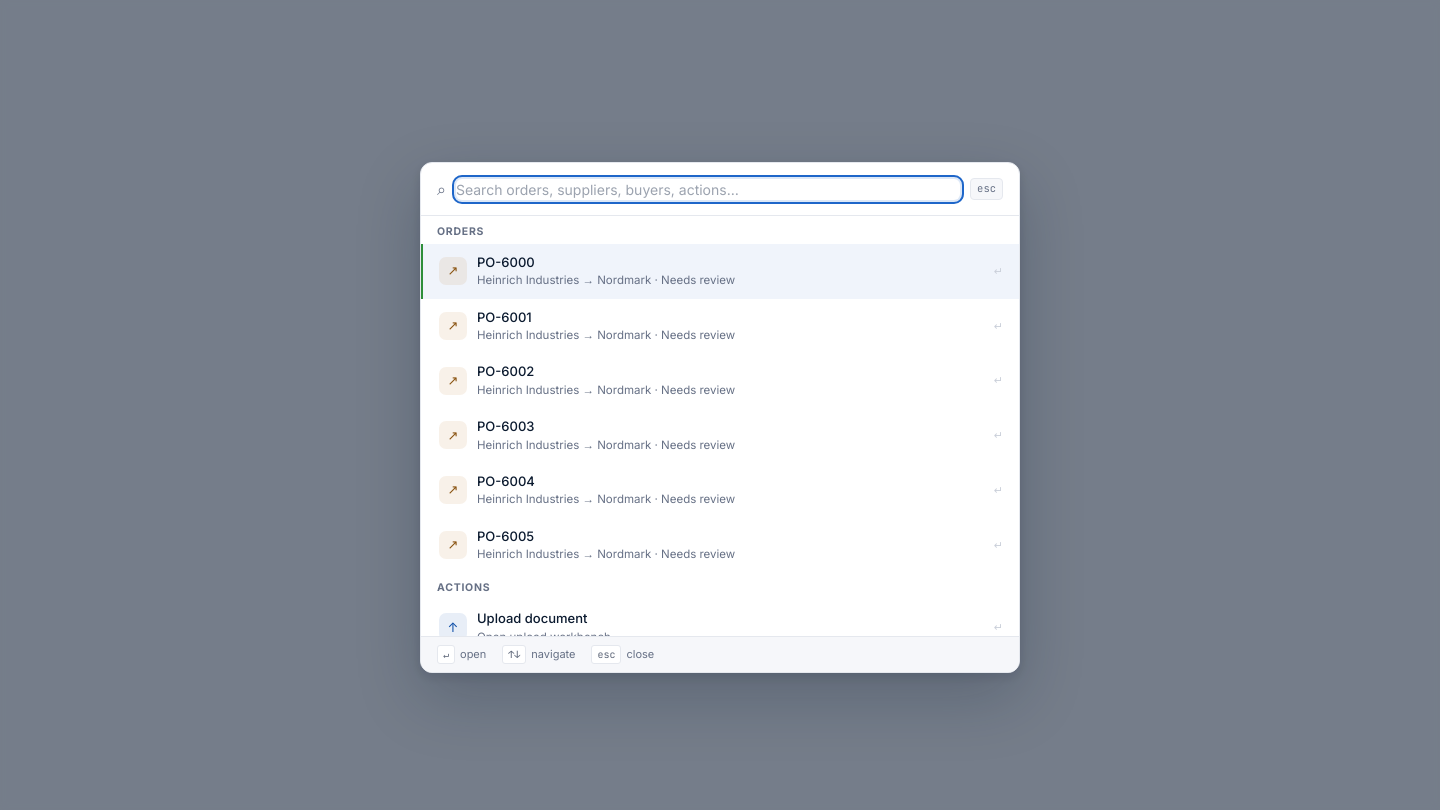
command palette search — still says no when the answer is no › reports no results once the whole account has actually been searched
In the dropdown: (708, 189) [456,178,960,200], type "qqqq"
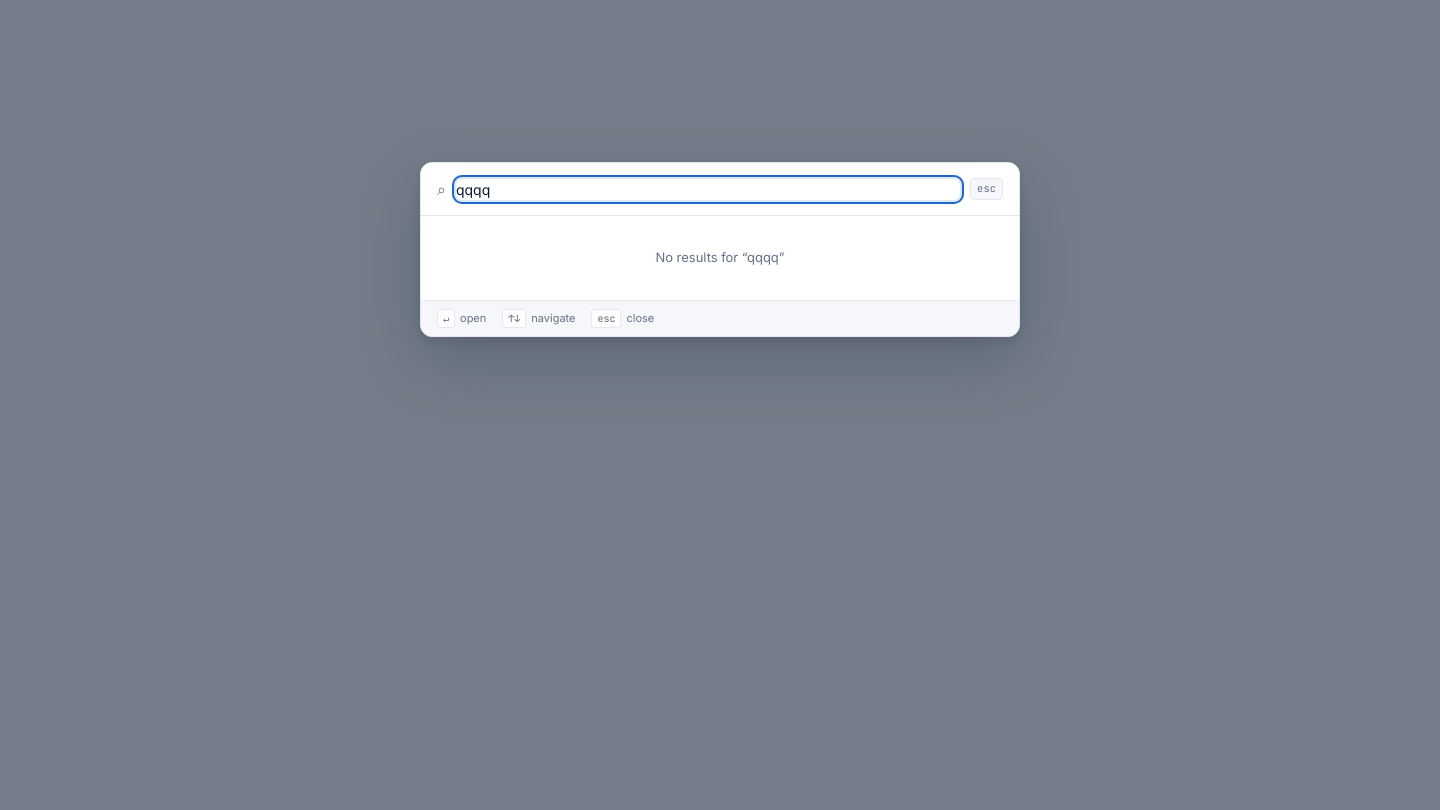
Now the text "No results for" is shown, box [655,249,784,265]
Now the text "qqqq" is shown, box [655,249,784,265]
